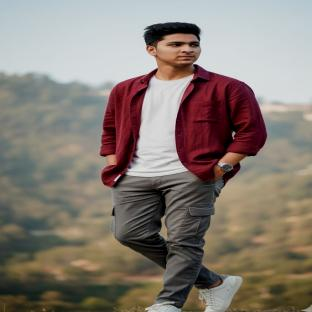Human: (100, 22, 266, 312)
